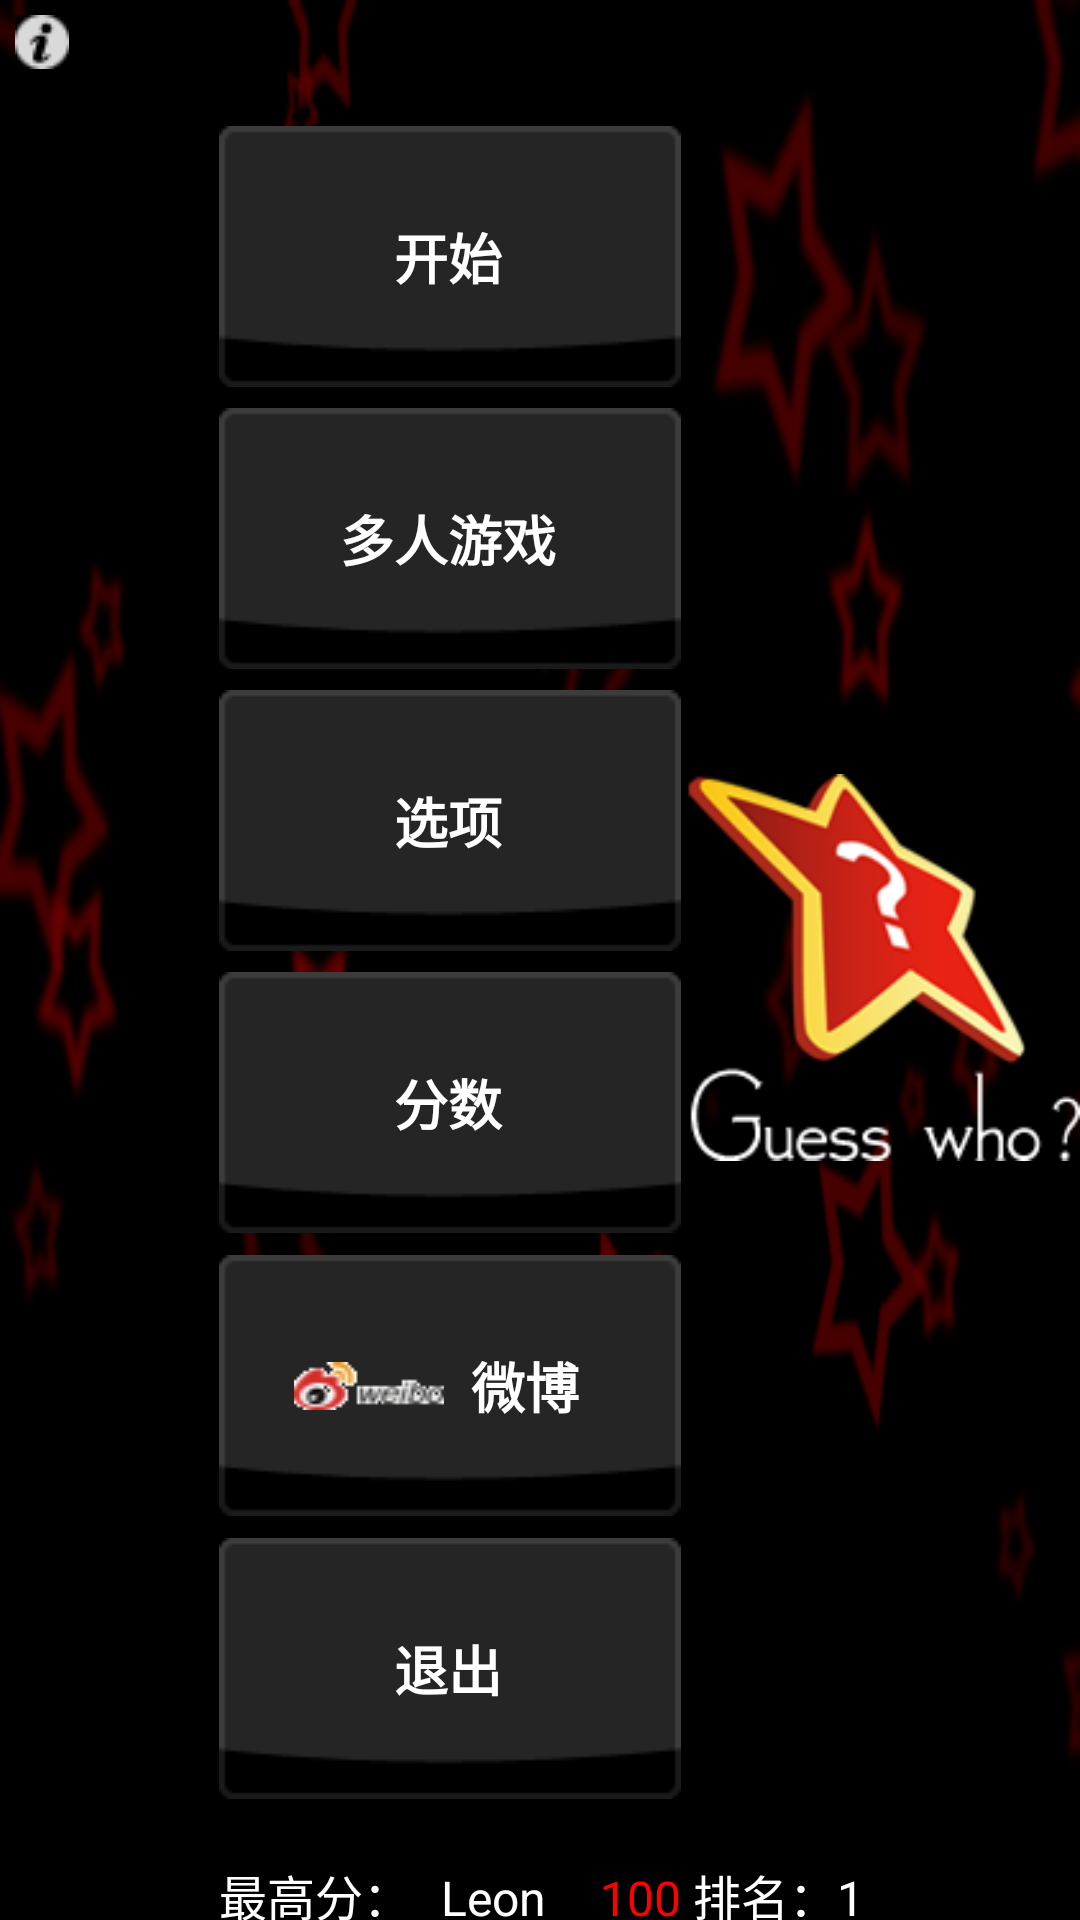

Named icons in this screenshot (1080w x 1920h) and their centers, point (x, y):
informationhelp: point (42, 42)
